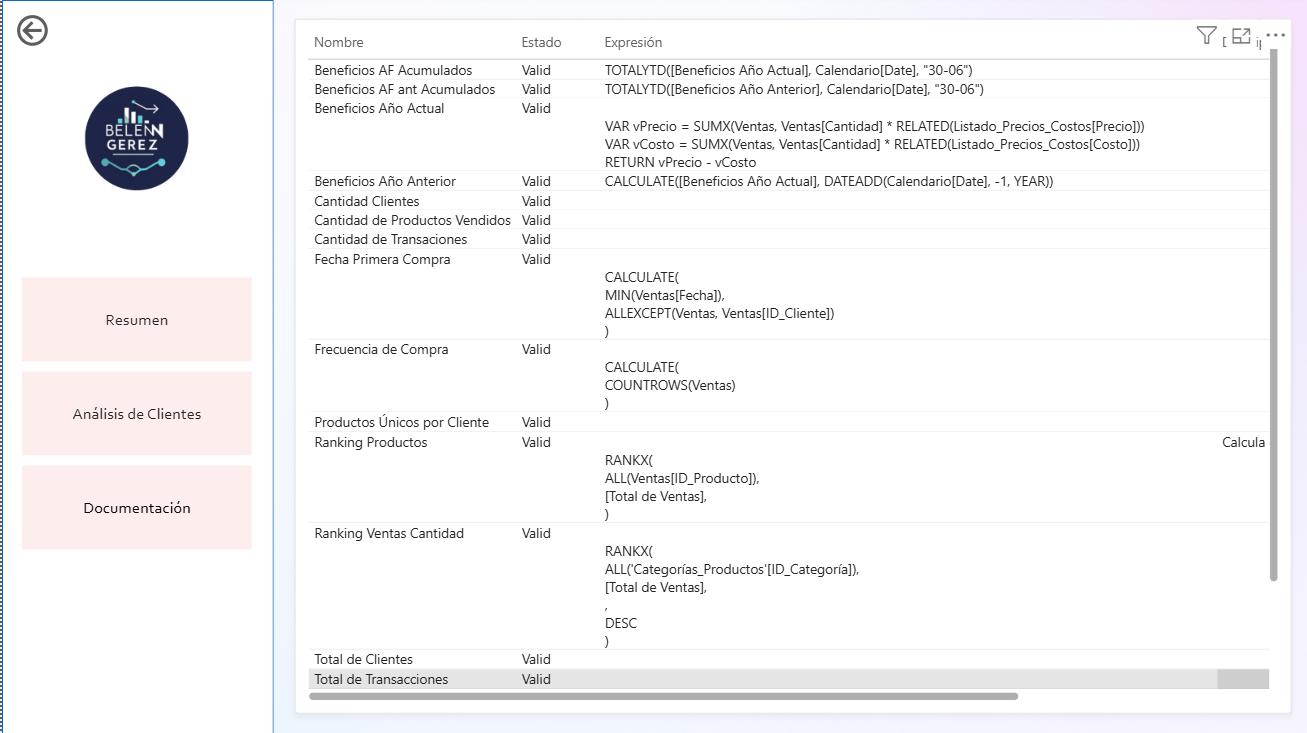

This screenshot's page, from the dashboard's own definition file:
{"tool":"powerbi","page":{"name":"Documentación","canvas":[1280,720],"ordinal":2},"visuals":[{"type":"tableEx","fields":{"Values":["Doc medidas DAX.Name","Doc medidas DAX.State","Doc medidas DAX.Expression","Doc medidas DAX.Description"]},"box":[285.6,18.5,976,680.3],"z":0},{"type":"shape","box":[0,0,265.9,720],"z":1000},{"type":"pageNavigator","box":[19.4,271.9,225.6,268.9],"z":2000},{"type":"actionButton","box":[10,10,100,40],"z":3000},{"type":"image","box":[9,40.3,246.5,209.1],"z":4000}]}

Visuals, with their boxes on the page's 1280x720 design canvas (x1, y1, x2, y2). These are canvas units, not pixel positions in the 1307x733 screenshot, which may show the page scaled, cropped or inside an application window:
tableEx - Doc medidas DAX.Name x Doc medidas DAX.State: {"left": 286, "top": 18, "right": 1262, "bottom": 699}
shape: {"left": 0, "top": 0, "right": 266, "bottom": 720}
pageNavigator: {"left": 19, "top": 272, "right": 245, "bottom": 541}
actionButton: {"left": 10, "top": 10, "right": 110, "bottom": 50}
image: {"left": 9, "top": 40, "right": 256, "bottom": 249}
